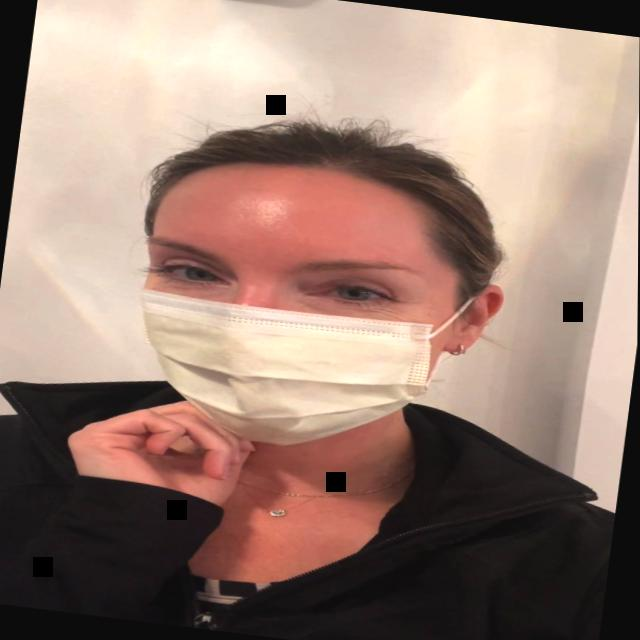Mask: (120, 148, 486, 467)
